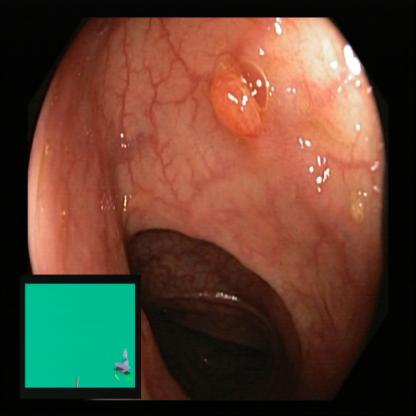Labels: (21, 275, 138, 399)
Polyps: (196, 49, 289, 134)
